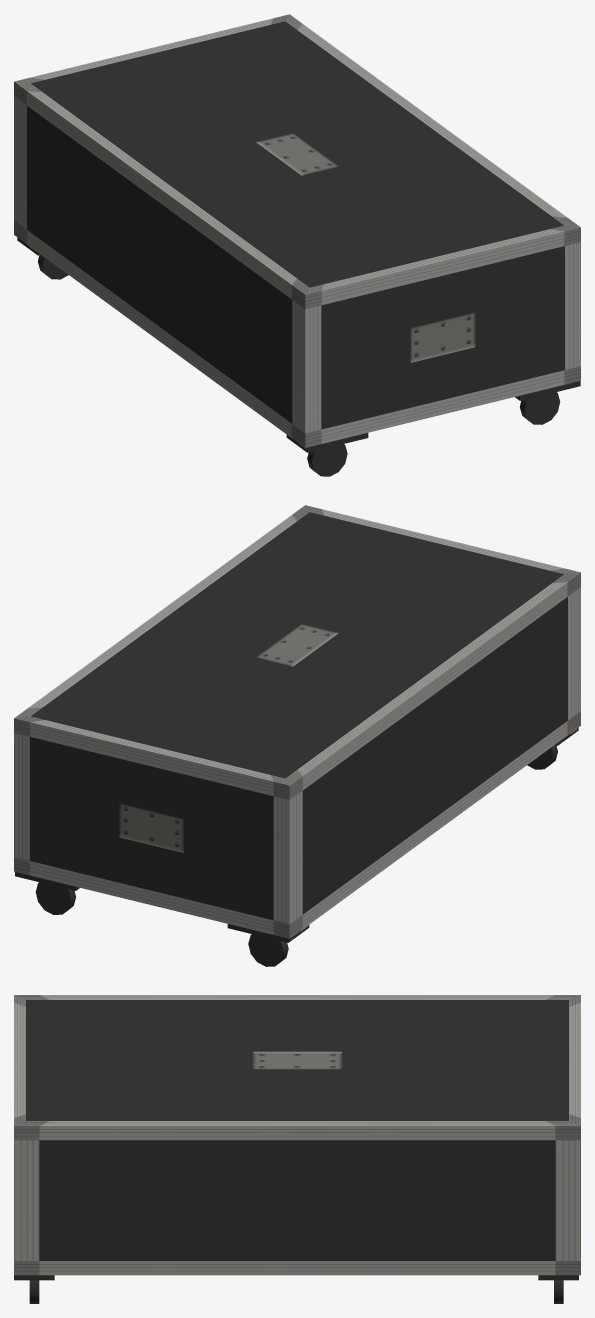
File: Flight_case_5.fbx
The picture shows the model from 3 angles, top to bottom: view 1: azimuth 30°, elevation 25°; view 2: azimuth 150°, elevation 25°; view 3: azimuth 270°, elevation 25°; orthographic projection. The views are drawn at different scales.
Visible parts, largest first — view 1: Flight_case_5; view 2: Flight_case_5; view 3: Flight_case_5.
Boxes of the visible parts, bbox=[...] form: Flight_case_5: bbox=[14, 14, 580, 476]; Flight_case_5: bbox=[14, 505, 580, 966]; Flight_case_5: bbox=[14, 995, 580, 1303].
Size of the model in its own units: 1.57 by 1.07 by 2.87.
